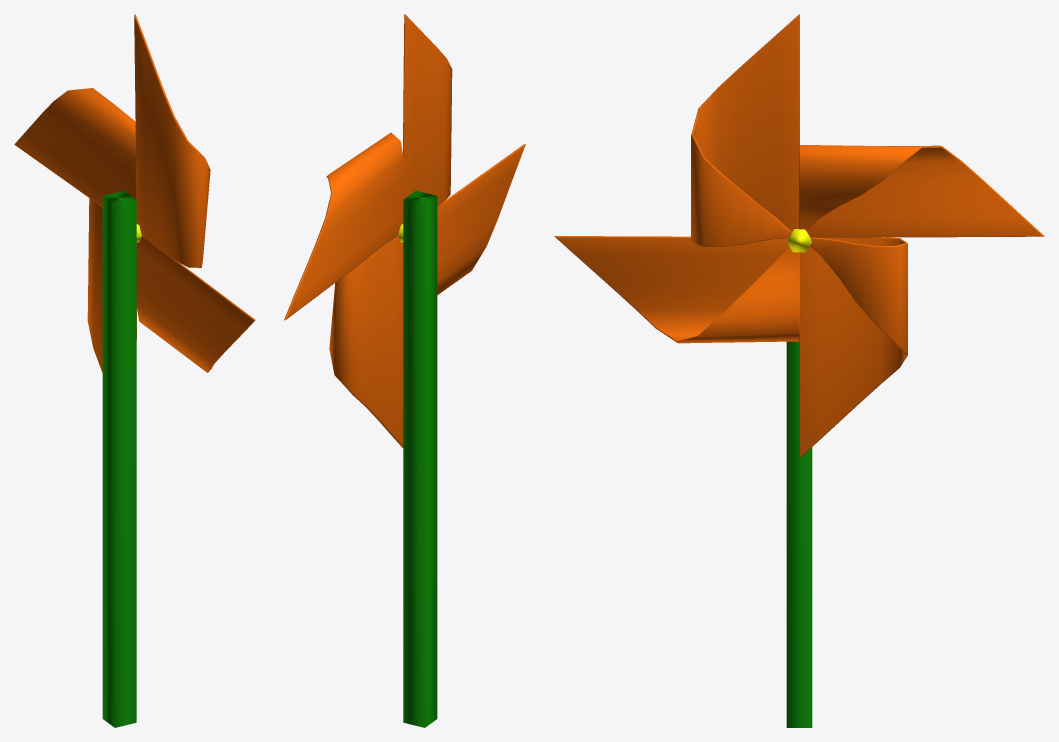
Rendered from wind.gltf.
3 renders of one model, left to right at view 1: azimuth 30°, elevation 25°; view 2: azimuth 150°, elevation 25°; view 3: azimuth 270°, elevation 25°, orthographic.
Visible parts, largest first — view 1: stick_high, blade_4_high, blade_1_high, blade_3_high, blade_2_high; view 2: stick_high, blade_2_high, blade_1_high, blade_4_high, blade_3_high; view 3: blade_4_high, blade_3_high, blade_2_high, blade_1_high, stick_high.
Part boxes in pixels (box(x1,y1,x2,y2)): stick_high: box(102, 191, 136, 727); blade_4_high: box(134, 14, 210, 267); blade_1_high: box(14, 88, 136, 206); blade_3_high: box(136, 236, 255, 372); blade_2_high: box(87, 198, 136, 372); stick_high: box(403, 190, 437, 727); blade_2_high: box(329, 236, 403, 447); blade_1_high: box(284, 132, 403, 320); blade_4_high: box(403, 14, 452, 206); blade_3_high: box(437, 144, 525, 294); blade_4_high: box(691, 14, 799, 246); blade_3_high: box(554, 236, 799, 343); blade_2_high: box(799, 237, 907, 458); blade_1_high: box(799, 145, 1044, 237); stick_high: box(786, 341, 812, 727).
Bounding box in the file's own units: 0.7933 × 9.66 × 6.
